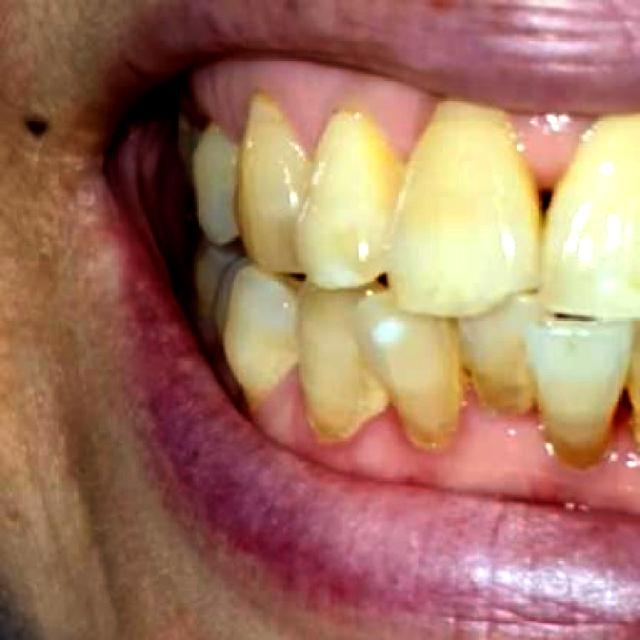Plaque: (254, 376, 556, 498)
